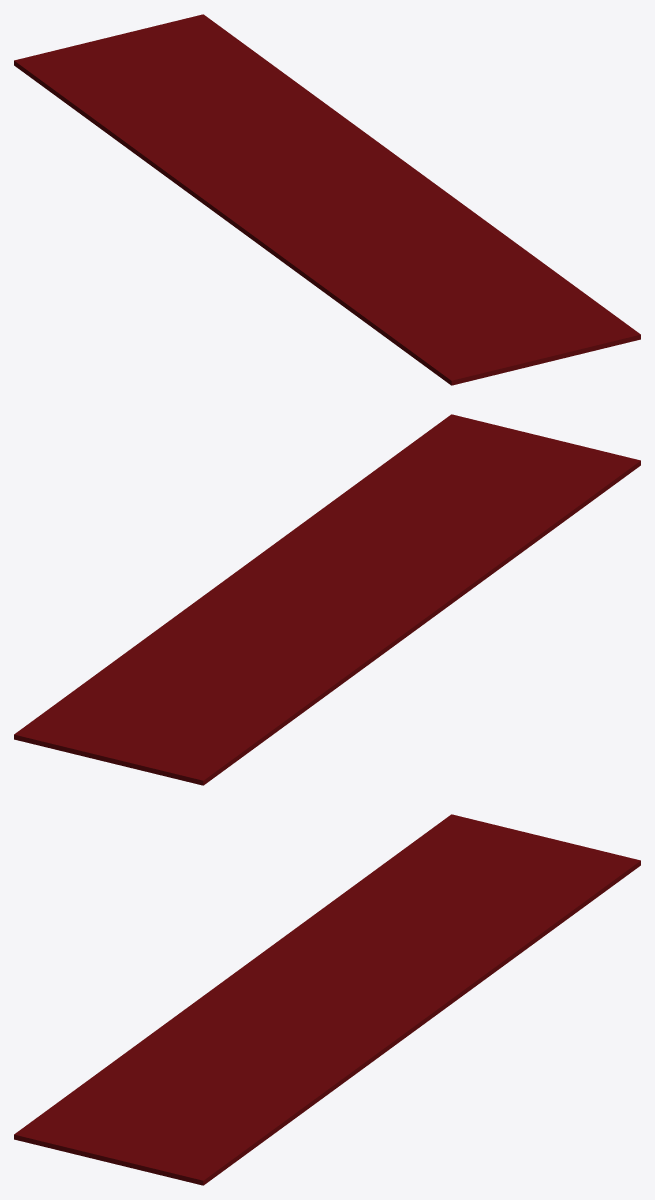
The model's file is OutsideFloor.fbx.
3 views of the same model, one above another, from view 1: azimuth 30°, elevation 25°; view 2: azimuth 150°, elevation 25°; view 3: azimuth 330°, elevation 25° (orthographic).
Visible parts, largest first — view 1: Floor; view 2: Floor; view 3: Floor.
Boxes of the visible parts, x1=… form: Floor: x1=14, y1=14, x2=640, y2=385; Floor: x1=14, y1=414, x2=640, y2=785; Floor: x1=14, y1=814, x2=640, y2=1185.
Bounding box in the file's own units: 4000 × 100 × 16000.
